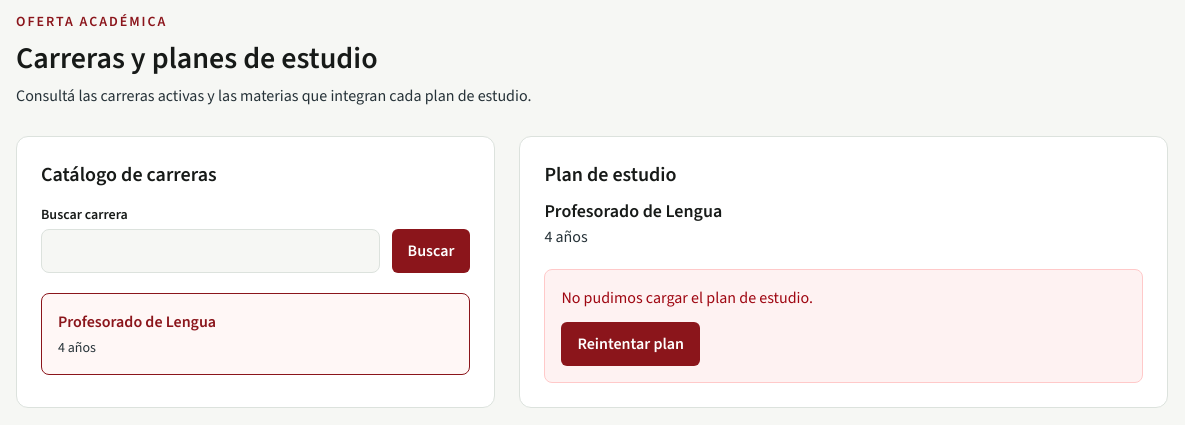
CareerCatalogView › shows an empty plan, then retries a failed plan without stale subjects
Expected: the message shows "No pudimos cargar el plan de estudio.", left=561, top=287, right=813, bottom=308
Click the button "Reintentar plan". click: (631, 344)
box: left=561, top=322, right=700, bottom=366
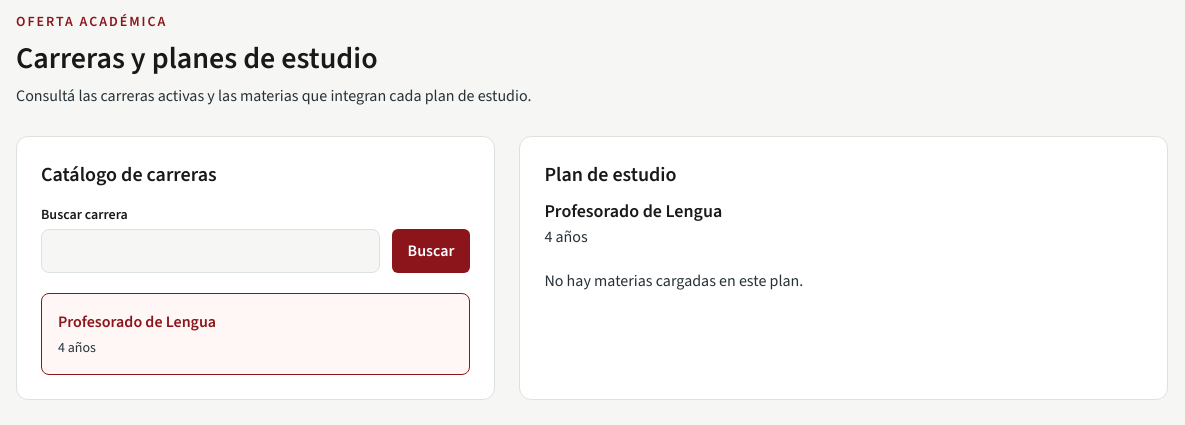
Now the text "No hay materias cargadas en este plan." is shown, box left=544, top=270, right=803, bottom=291
